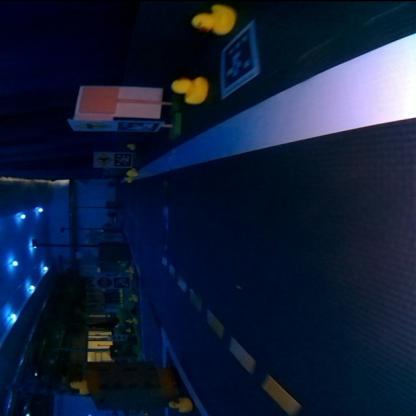Duckie: (191, 6, 235, 32), (171, 76, 207, 104), (168, 398, 192, 413), (69, 380, 87, 394), (126, 170, 134, 176), (127, 144, 135, 150), (128, 295, 135, 301), (130, 318, 136, 324), (126, 268, 132, 274), (125, 327, 132, 331), (124, 177, 129, 181)
Intersection sign: (75, 121, 111, 131), (95, 153, 110, 165)
QR code: (220, 21, 258, 97), (119, 120, 161, 132), (114, 154, 130, 166)
